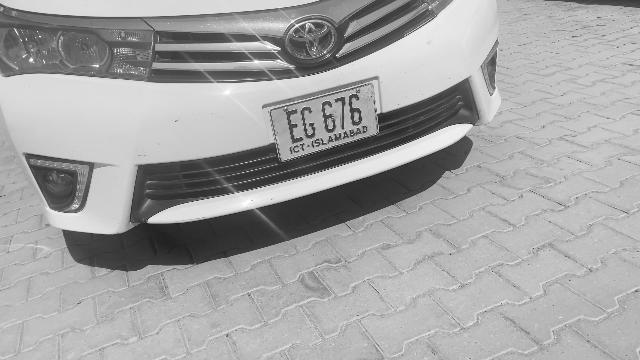Number: (283, 89, 368, 147)
